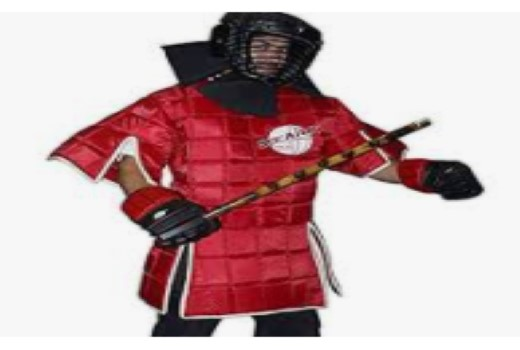baston_e: (216, 116, 419, 225)
baston_v: (416, 110, 436, 130)
